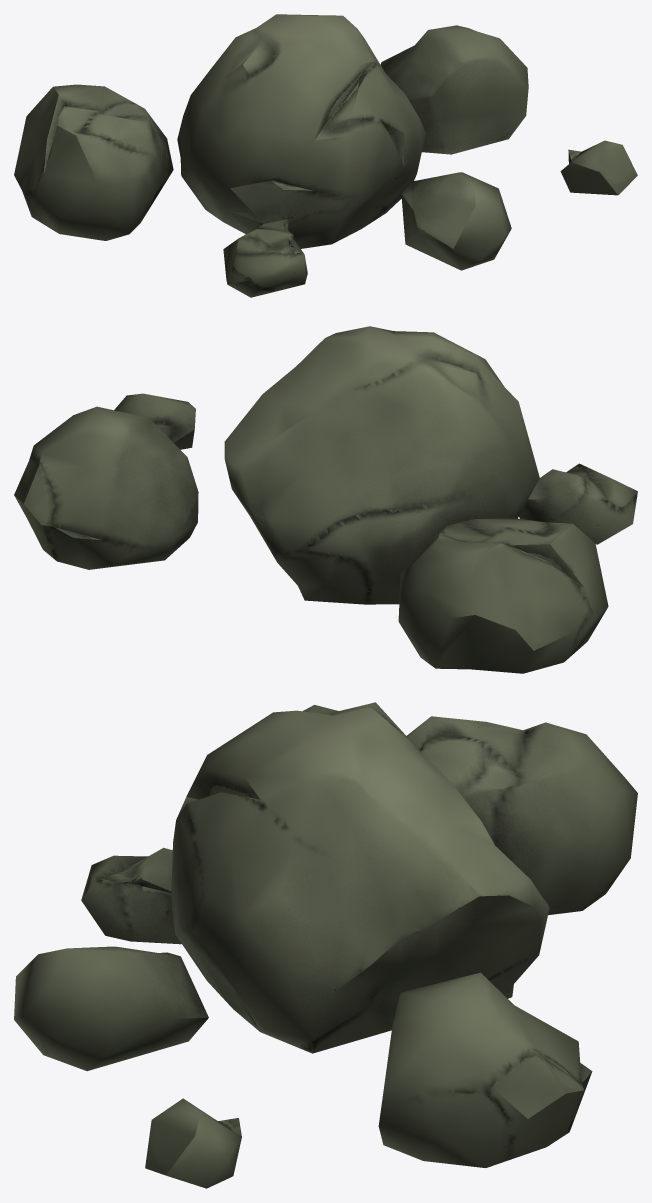
File: Roca_Grupo.fbx
The picture shows the model from 3 angles, top to bottom: view 1: azimuth 30°, elevation 25°; view 2: azimuth 150°, elevation 25°; view 3: azimuth 270°, elevation 25°; orthographic projection. The views are drawn at different scales.
Visible parts, largest first — view 1: Roca_Grupo; view 2: Roca_Grupo; view 3: Roca_Grupo.
Part boxes in pixels (x1=…): Roca_Grupo: x1=14, y1=14, x2=637, y2=297; Roca_Grupo: x1=14, y1=326, x2=637, y2=673; Roca_Grupo: x1=14, y1=702, x2=637, y2=1188.
Size of the model in its own units: 1.99 by 0.7075 by 1.48.
Materials: 1 (1 with a texture image).
